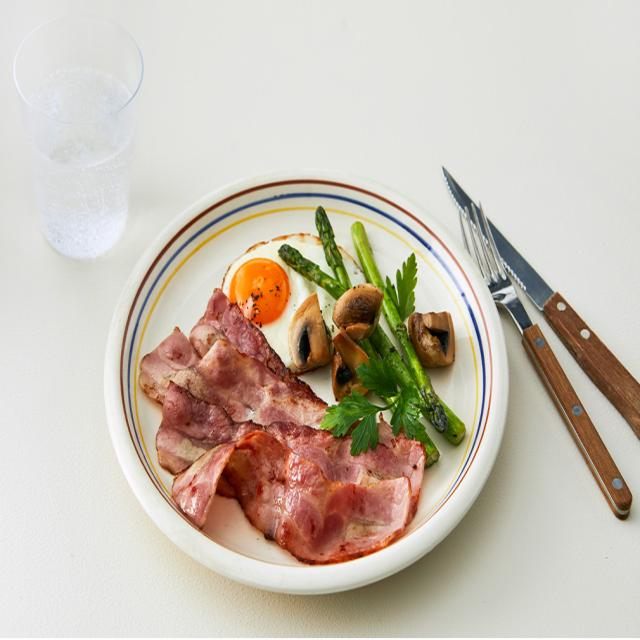bacon: (134, 297, 426, 564)
